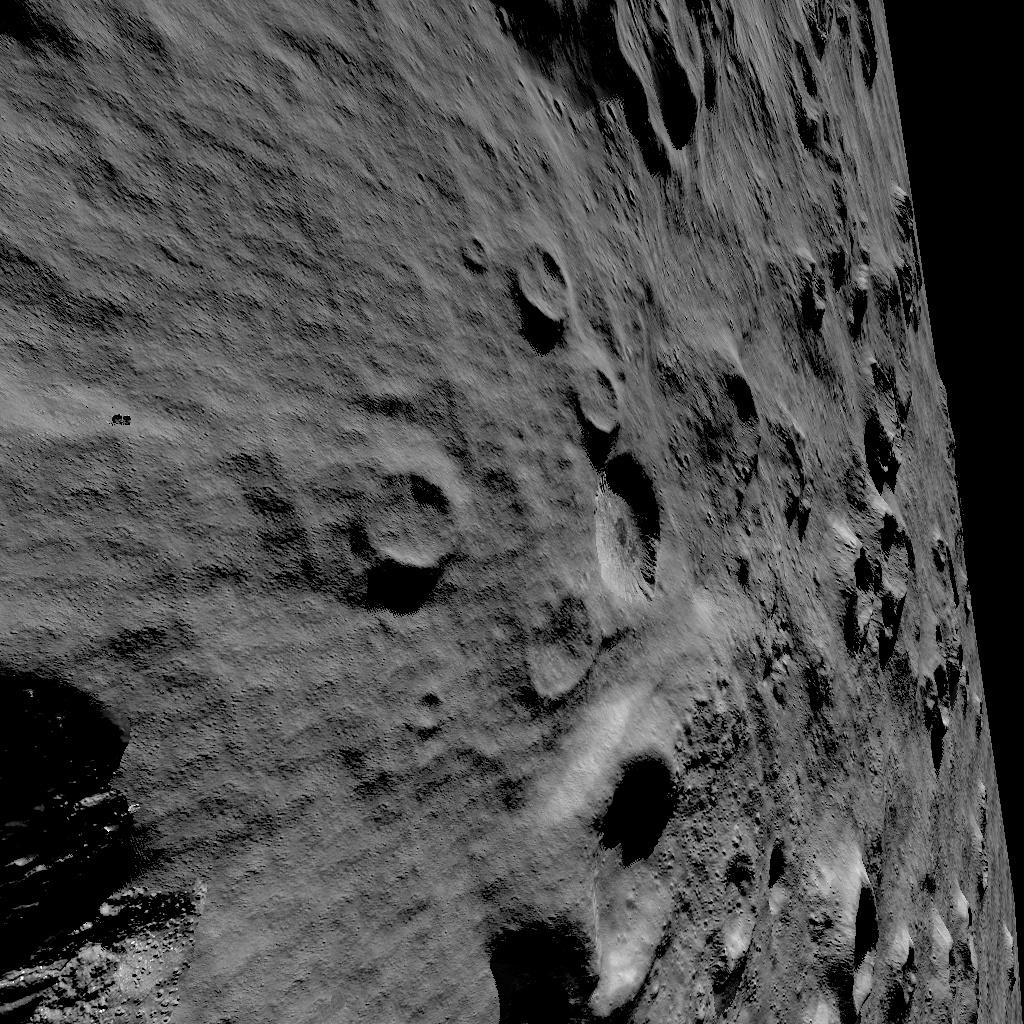Boulders: (0, 635, 213, 1024)
Crater: (494, 715, 688, 1024), (514, 232, 676, 598), (858, 352, 990, 738), (511, 0, 738, 170), (828, 858, 990, 1024), (708, 342, 820, 546), (811, 190, 938, 328), (786, 0, 895, 160), (716, 832, 800, 1024), (366, 460, 468, 573)
Plan surface: (190, 0, 496, 448), (228, 618, 480, 1024), (0, 460, 213, 620)
